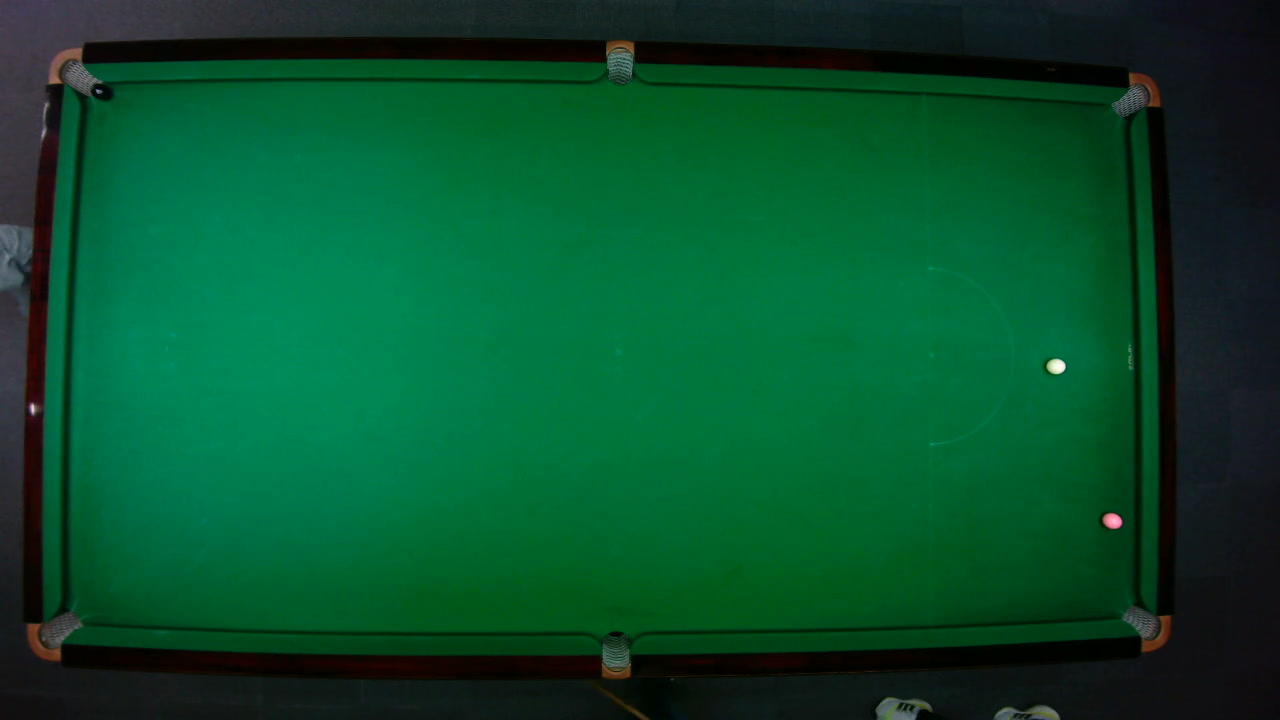bag: (25, 609, 83, 661), (45, 46, 102, 96), (1119, 603, 1171, 651), (1109, 71, 1161, 118), (601, 629, 630, 680), (605, 38, 633, 85)
black: (90, 82, 110, 100)
pink: (1100, 510, 1123, 529)
white: (1044, 356, 1066, 374)
zone: (926, 266, 1013, 444)
